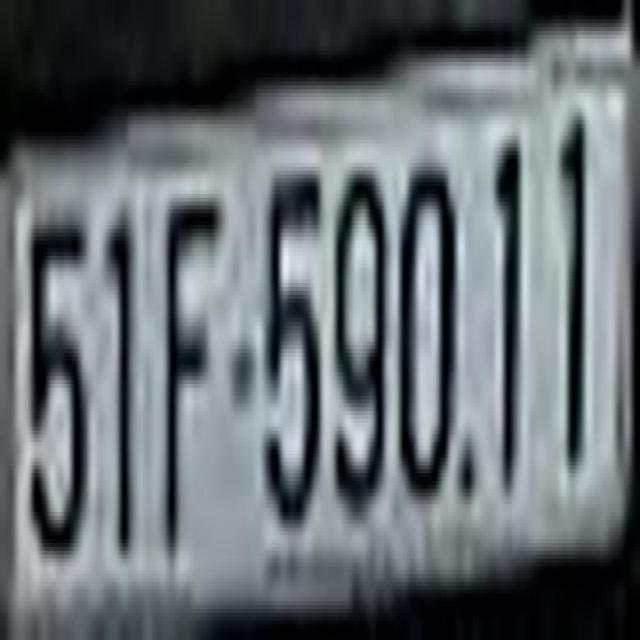0: (404, 140, 455, 497)
1: (489, 124, 526, 500), (558, 101, 592, 473), (106, 205, 132, 547)
5: (265, 151, 320, 524), (34, 198, 88, 539)
9: (336, 151, 388, 512)
F: (167, 182, 224, 543)
